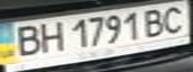1: (66, 16, 90, 48), (121, 9, 145, 40)
7: (84, 14, 109, 47)
9: (103, 11, 127, 45)
B: (6, 23, 45, 57), (139, 6, 172, 38)
C: (157, 2, 193, 35)
H: (33, 19, 66, 54)
